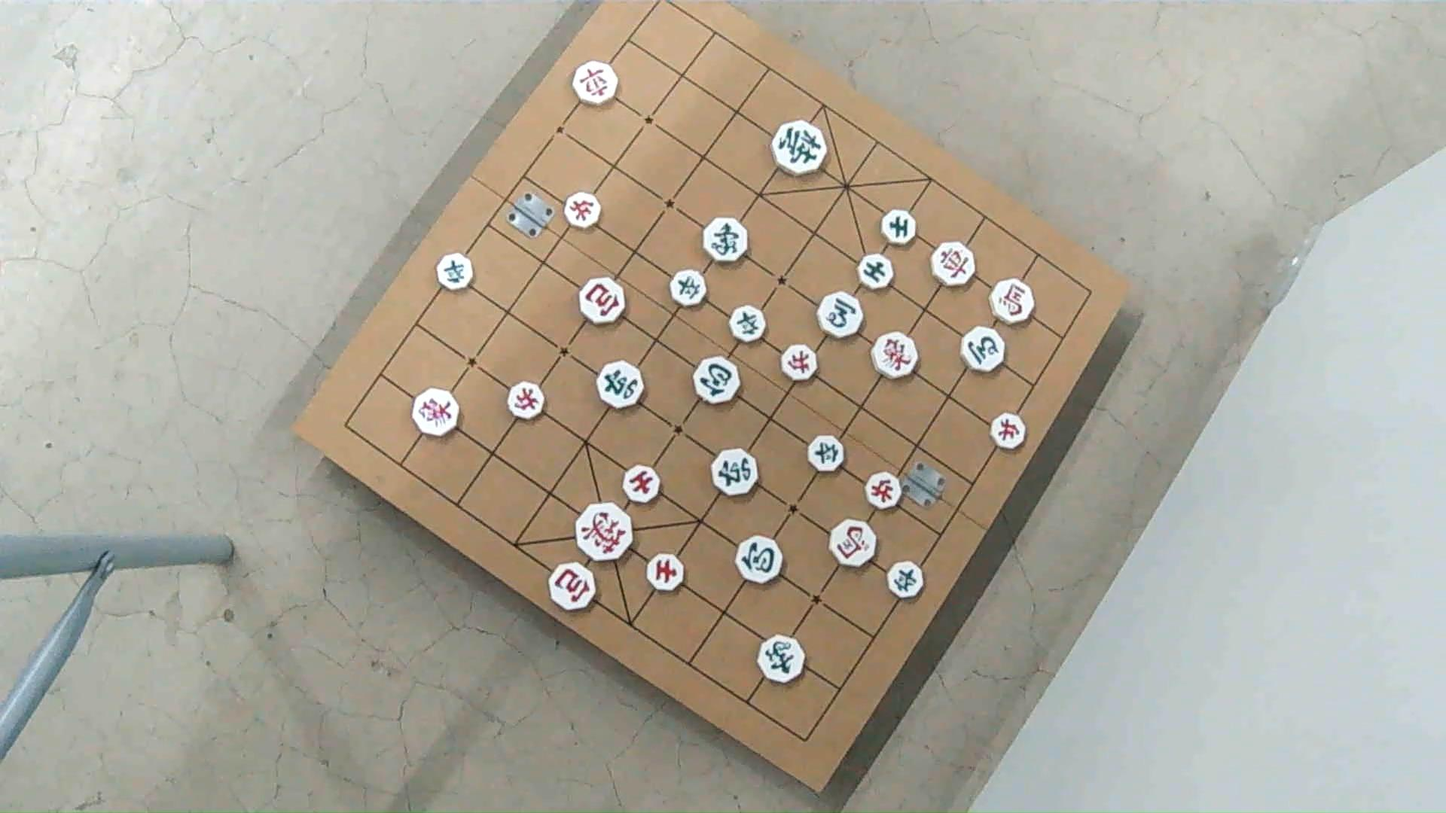cha_green: (597, 363, 644, 410), (712, 448, 758, 495)
cha_red: (932, 244, 977, 288), (574, 62, 619, 105)
jol_green: (806, 436, 844, 472), (672, 269, 709, 305), (435, 253, 471, 290), (731, 304, 767, 340), (887, 562, 923, 598)
jol_red: (505, 382, 544, 420), (783, 345, 819, 382), (865, 473, 901, 510), (563, 191, 599, 227), (989, 415, 1025, 451)
ma_green: (959, 328, 1005, 373), (817, 291, 862, 336)
ma_red: (831, 520, 878, 568), (992, 280, 1036, 325)
po_green: (735, 534, 782, 583), (694, 357, 740, 404)
po_red: (548, 562, 595, 610), (580, 279, 627, 326)
sa_green: (881, 209, 916, 245), (858, 254, 893, 289)
sa_red: (645, 553, 684, 590), (623, 464, 660, 502)
sang_green: (759, 635, 806, 681), (703, 218, 748, 263)
sang_red: (412, 388, 459, 436), (874, 333, 919, 379)
wang_green: (773, 120, 827, 174)
wang_red: (578, 504, 636, 561)
